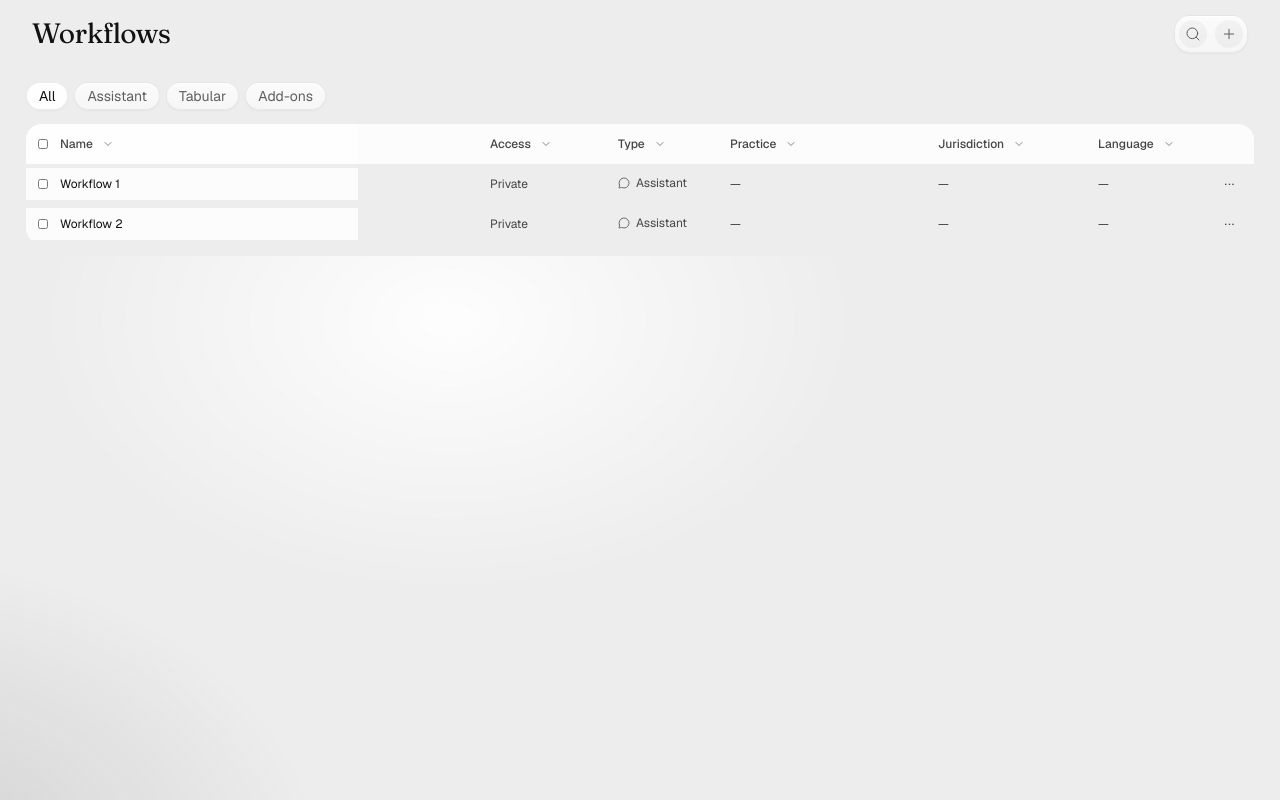
Scenario: WorkflowList pack toolbar › matches toolbar and right-click actions for 1 selected workflows
This screenshot has width=1280, height=800.
Click the checkbox named "Select Workflow 1" at (43, 184), box [38,179,48,189]
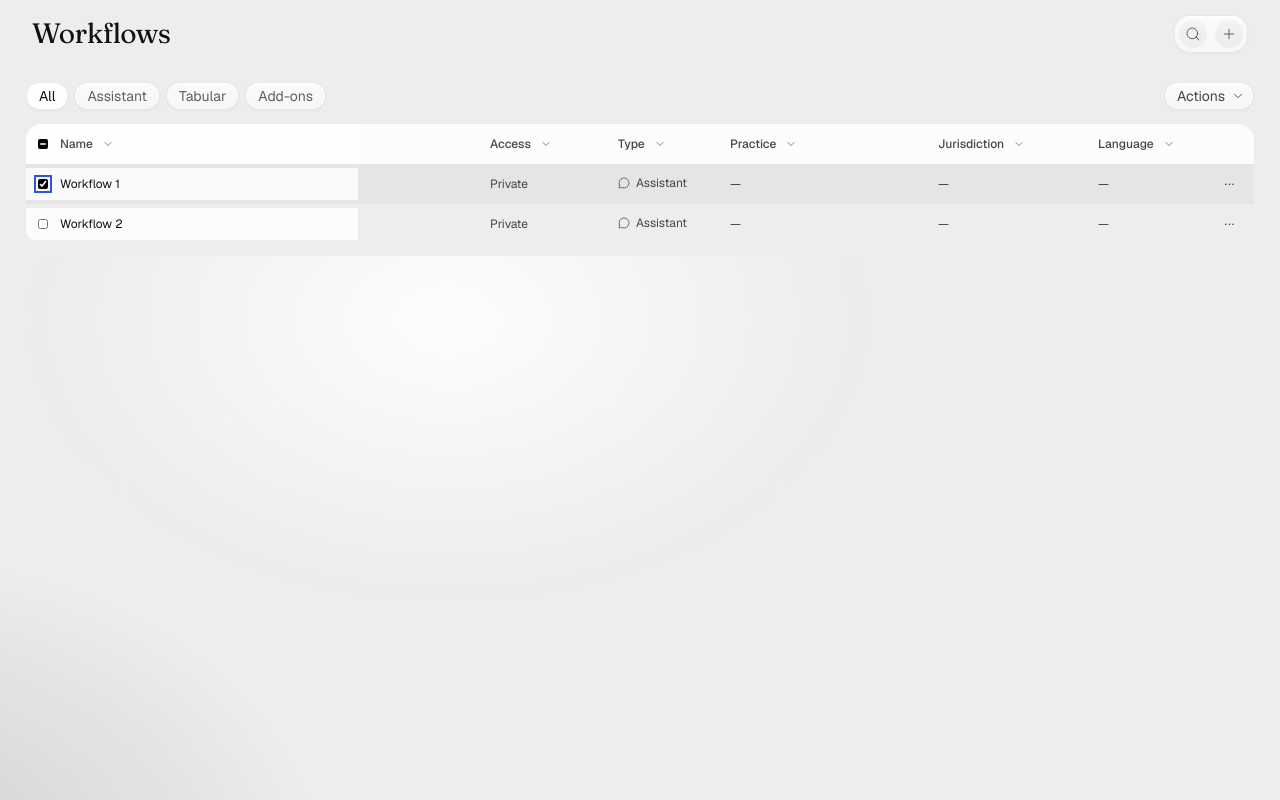
Click the button "Actions" at (1209, 96), box [1164,82,1254,110]
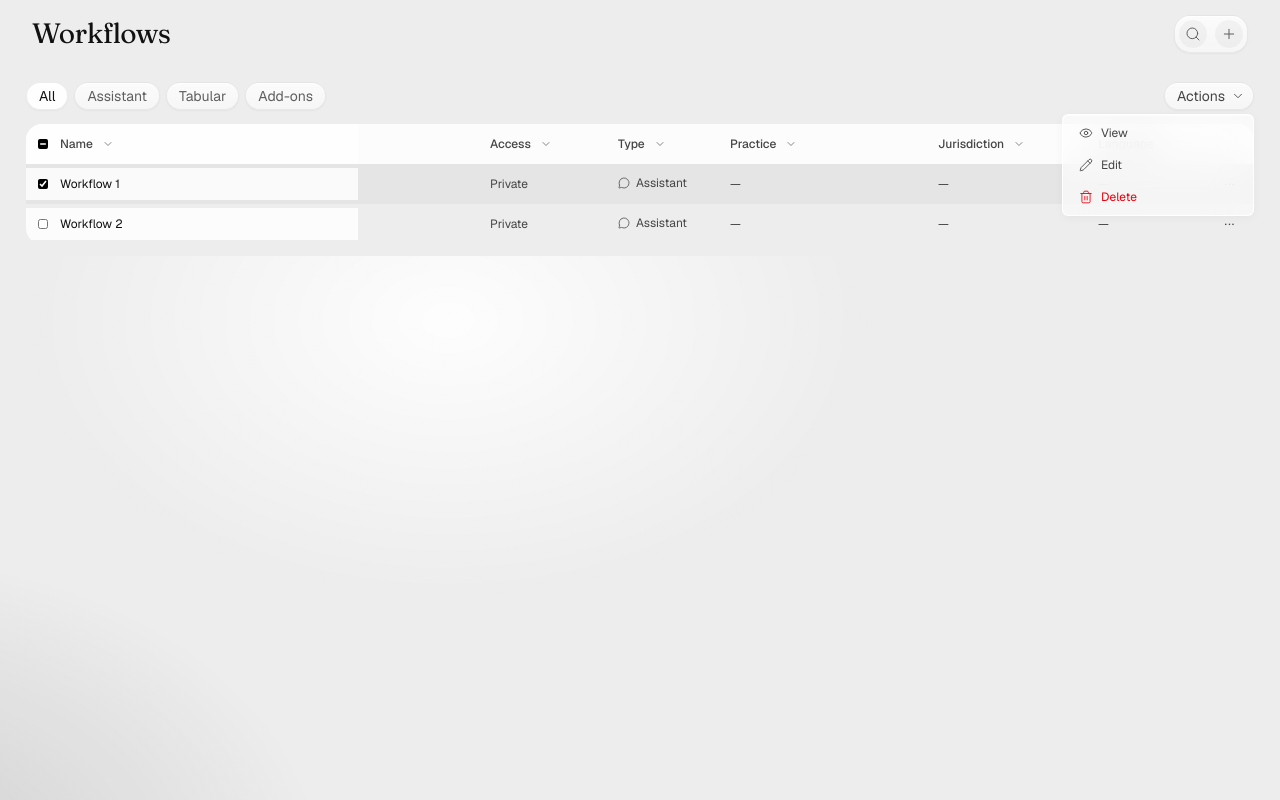
Result: the menu items read "View", "Edit", "Delete", in this order at [1079,125,1128,141]; [1079,157,1122,173]; [1079,189,1137,205]
Press Escape
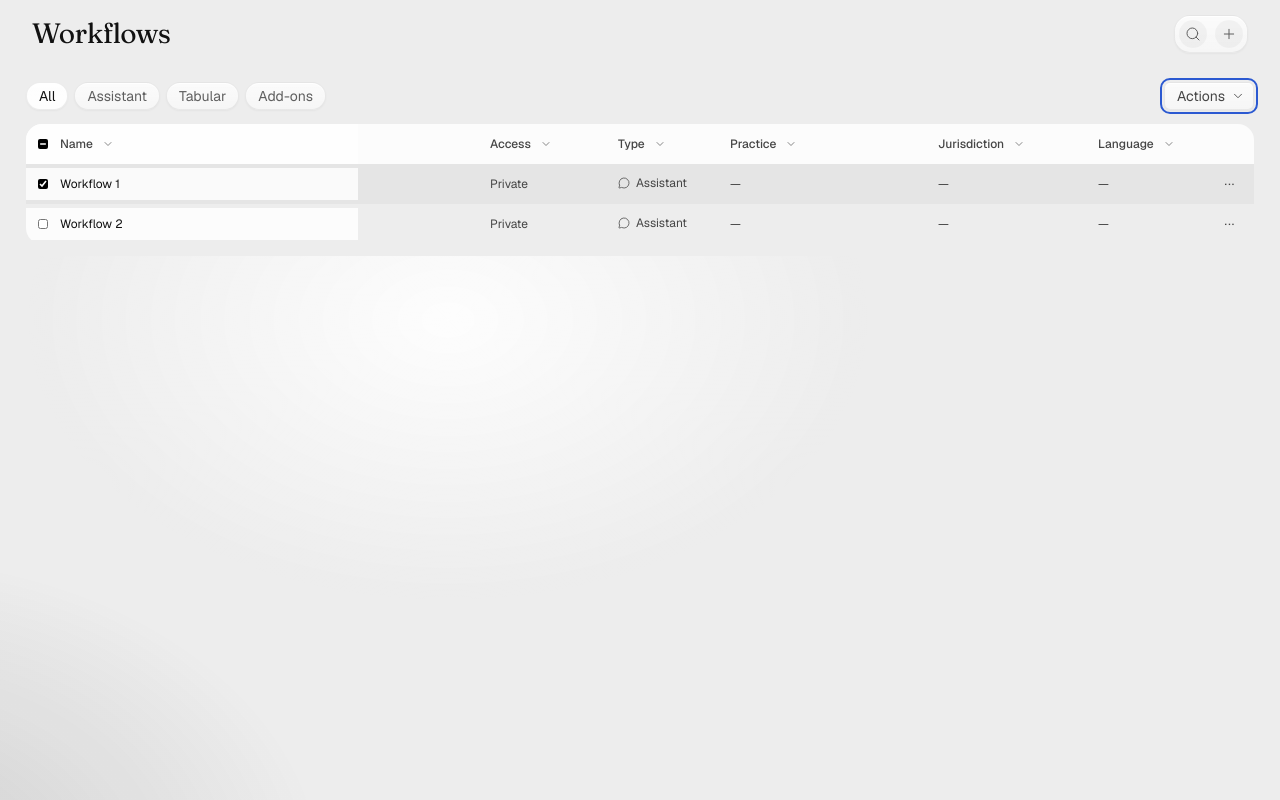
Right-click the text "Workflow 1" at (90, 184), box [60,176,120,192]
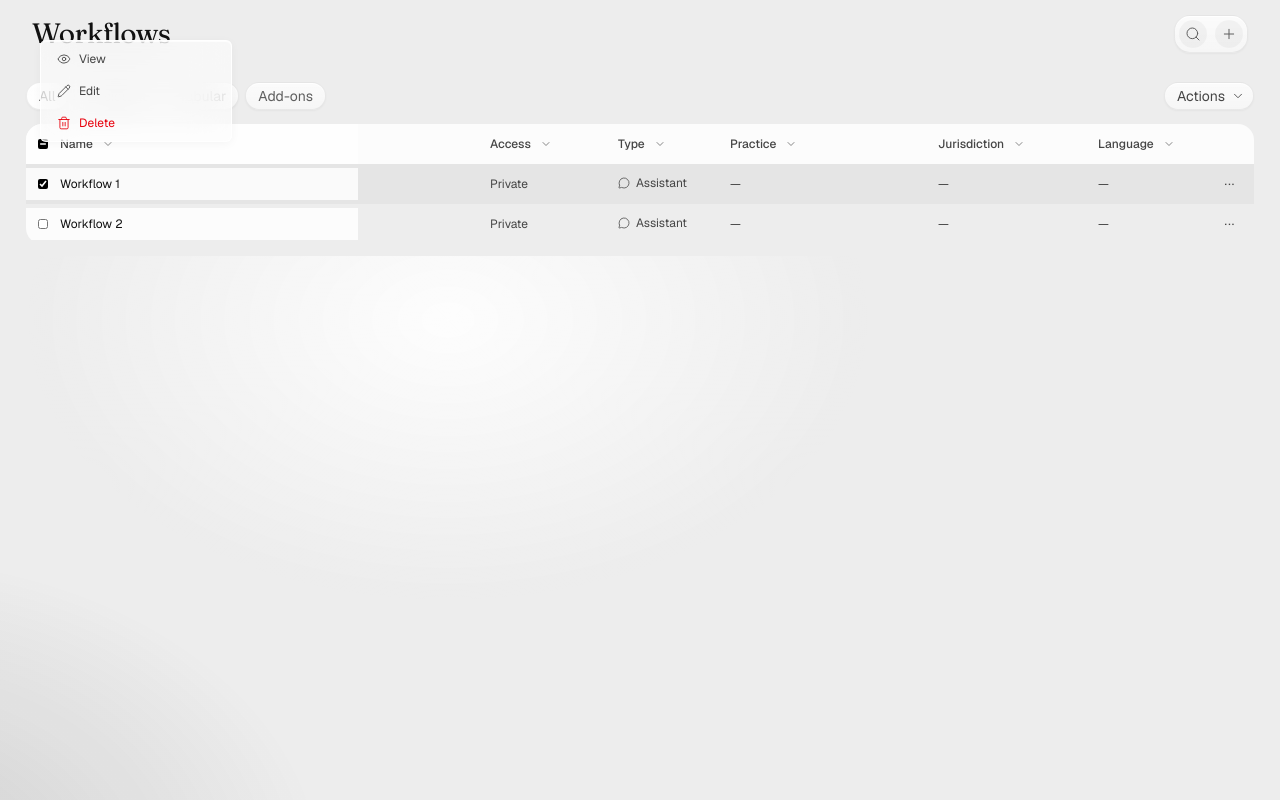
Result: the menu items read "View", "Edit", "Delete", in this order at [57,51,106,67]; [57,83,100,99]; [57,115,115,131]
